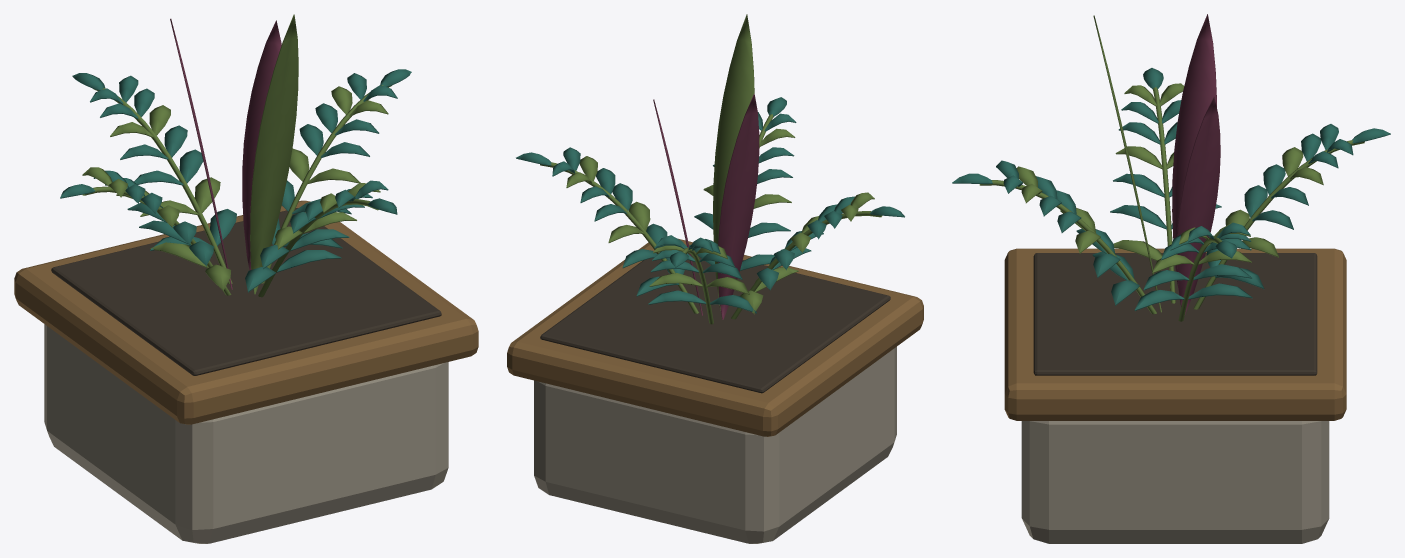
Rendered from planter_fern_variant.glb.
3 views of the same model, side by side, from view 1: azimuth 30°, elevation 25°; view 2: azimuth 150°, elevation 25°; view 3: azimuth 270°, elevation 25° (orthographic). The views are drawn at different scales.
Visible parts, largest first — view 1: planter_fern_variant; view 2: planter_fern_variant; view 3: planter_fern_variant.
Part boxes in pixels (box(x1,y1,x2,y2)): planter_fern_variant: box(14, 14, 478, 543); planter_fern_variant: box(507, 14, 923, 543); planter_fern_variant: box(952, 14, 1390, 543).
Bounding box in the file's own units: 1.31 × 1.54 × 1.28.
